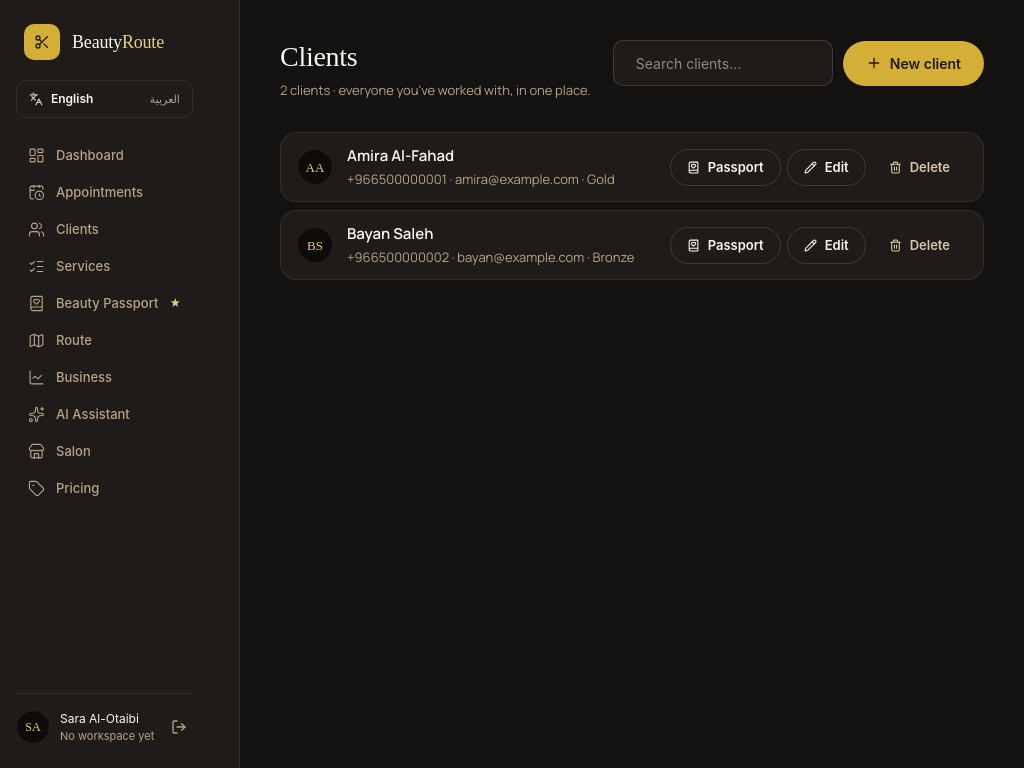
Test: Clients page › edits an existing client and reflects the update in the list
This screenshot has width=1024, height=768.
Expected: the text "Amira Al-Fahad" is shown, left=347, top=145, right=454, bottom=166
Click the button "Edit" in the row of "Gold" at (826, 167), box left=787, top=149, right=866, bottom=186
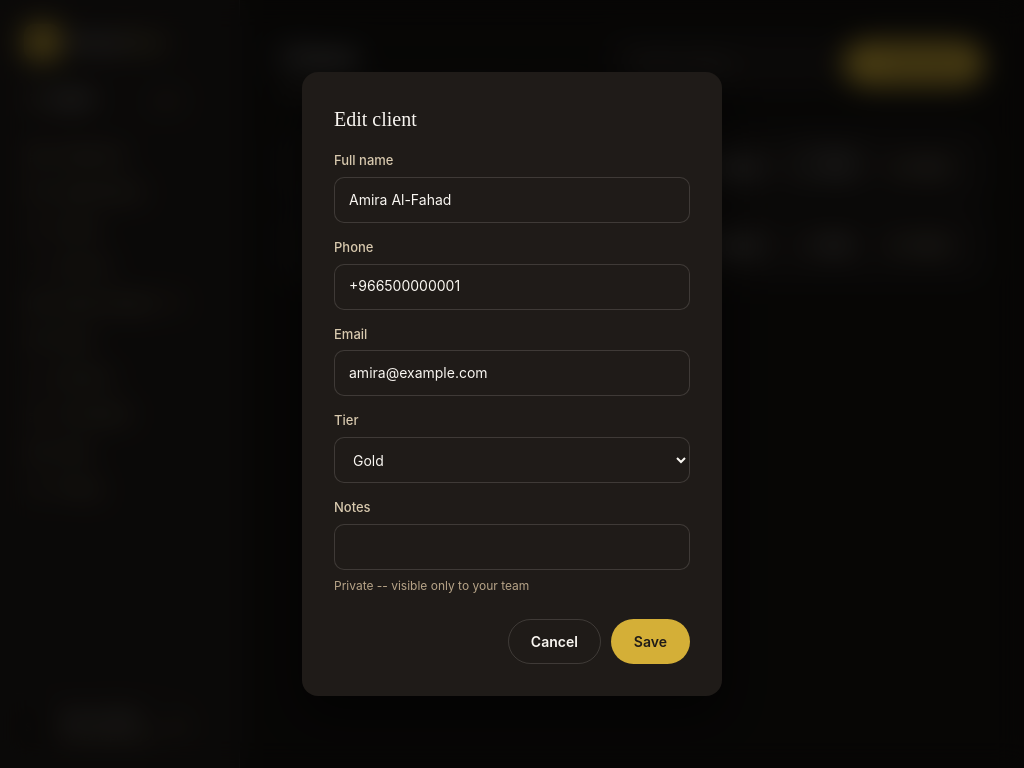
Expected: the field showing "Amira Al-Fahad" is shown
Replace the text in the field labelled "Full name" with "Amira Al-Fahad (VIP)" at (512, 200), box left=349, top=188, right=675, bottom=211
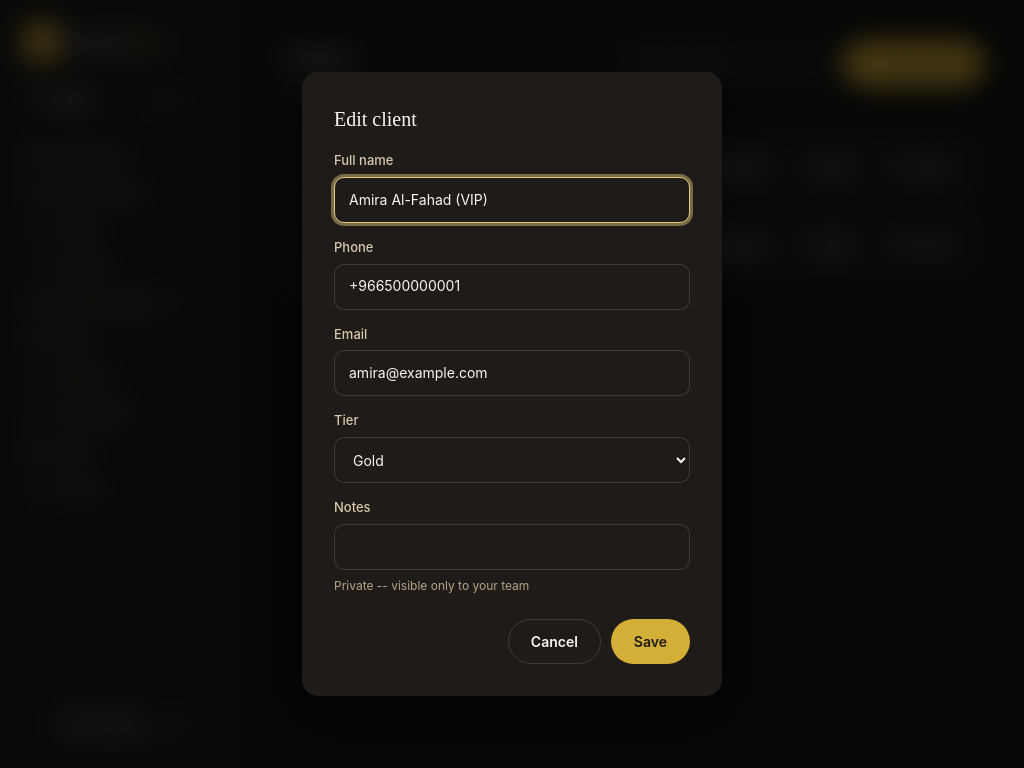
Click the button "Save" at (650, 642), box left=611, top=619, right=690, bottom=664
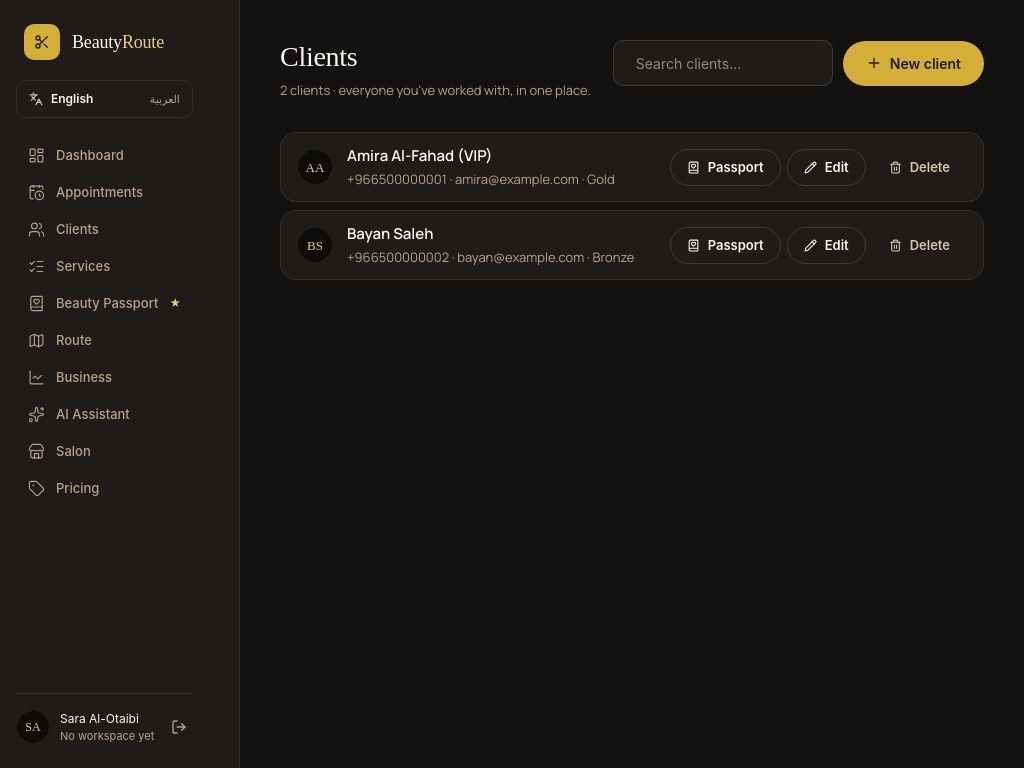
Expected: the text "Amira Al-Fahad (VIP)" is shown, left=347, top=145, right=492, bottom=166
